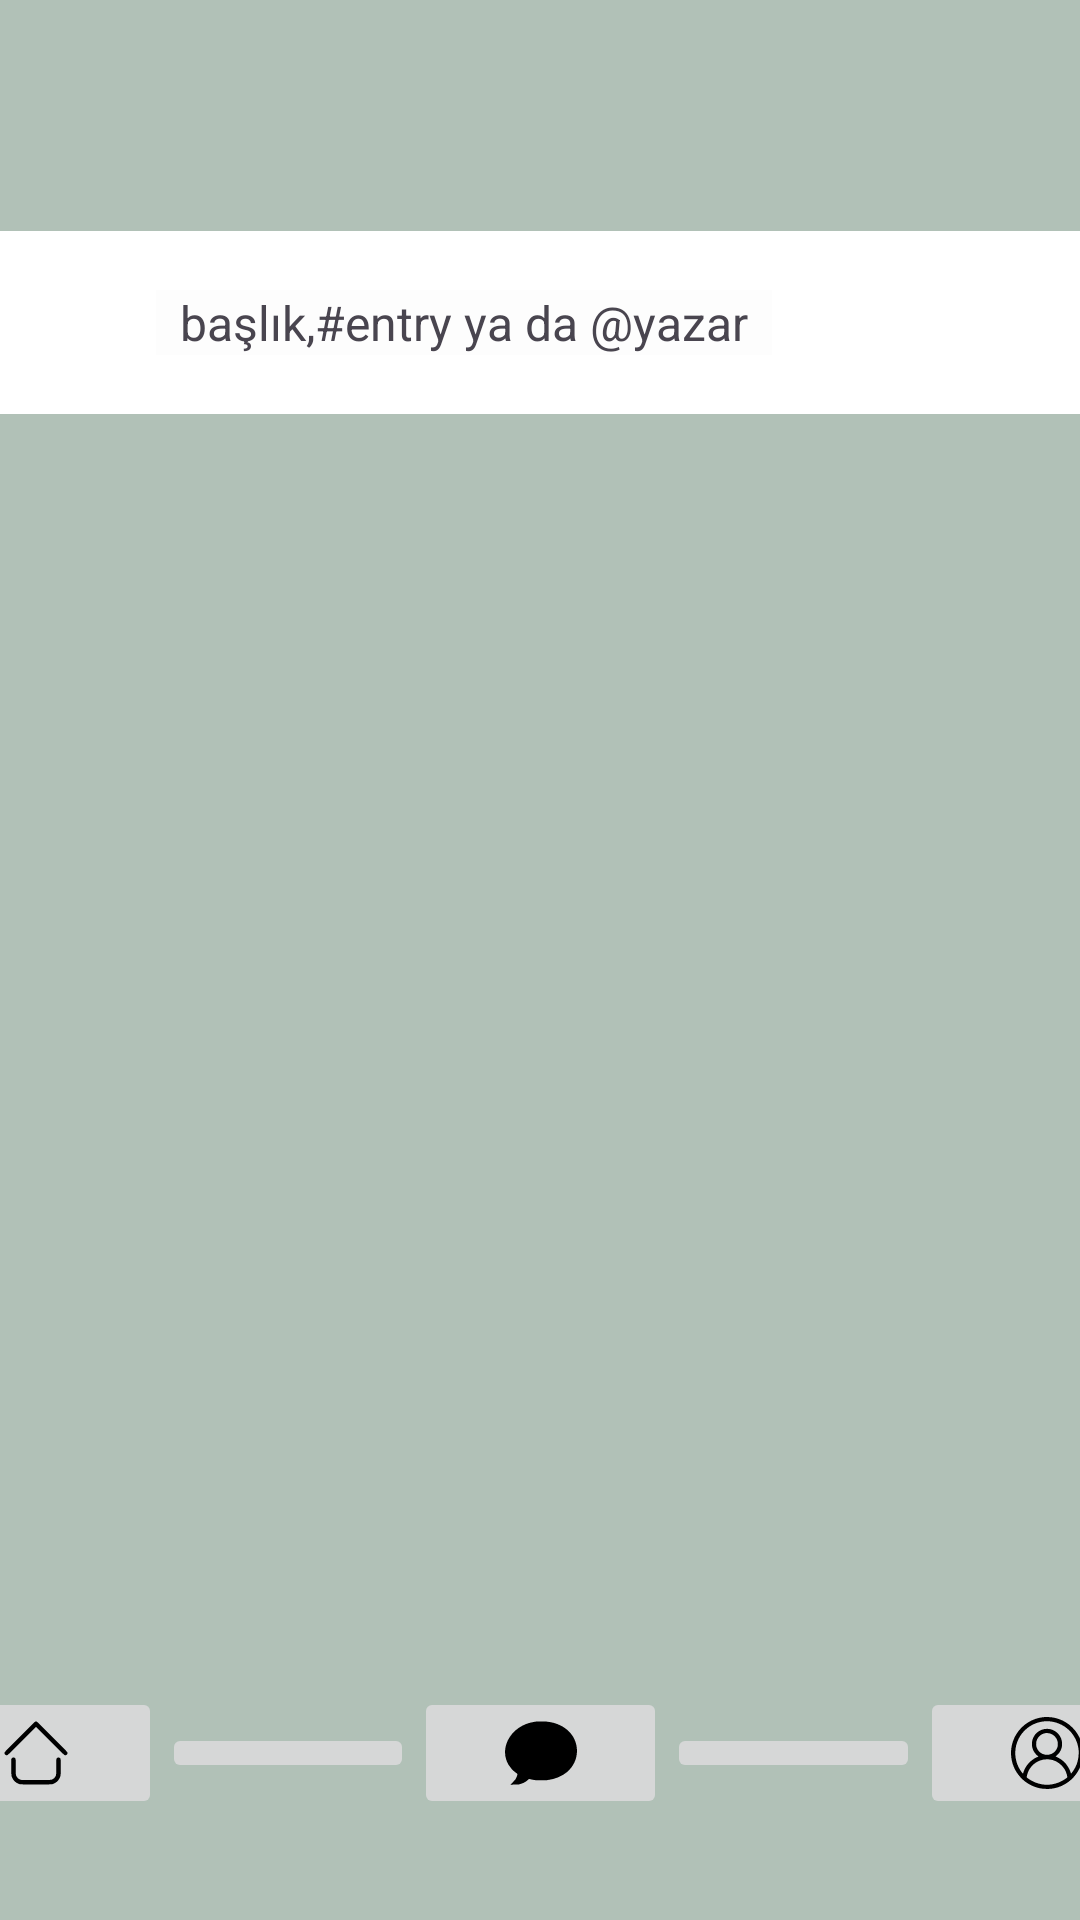

Locate icon controls on the screen. Image size 1080*1920, boxes as (x1, y1, x2, y2).
Mesajlar: (426, 1705, 655, 1801)
